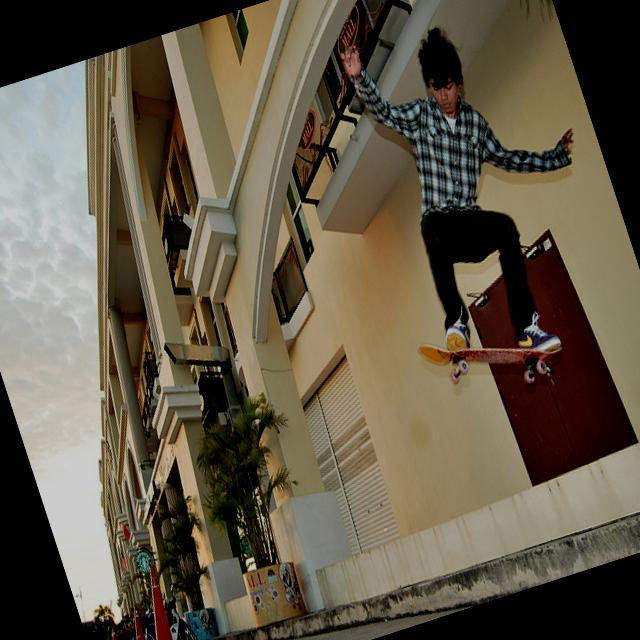Vehicle: (136, 595, 202, 640), (117, 624, 138, 640), (110, 630, 130, 640)
